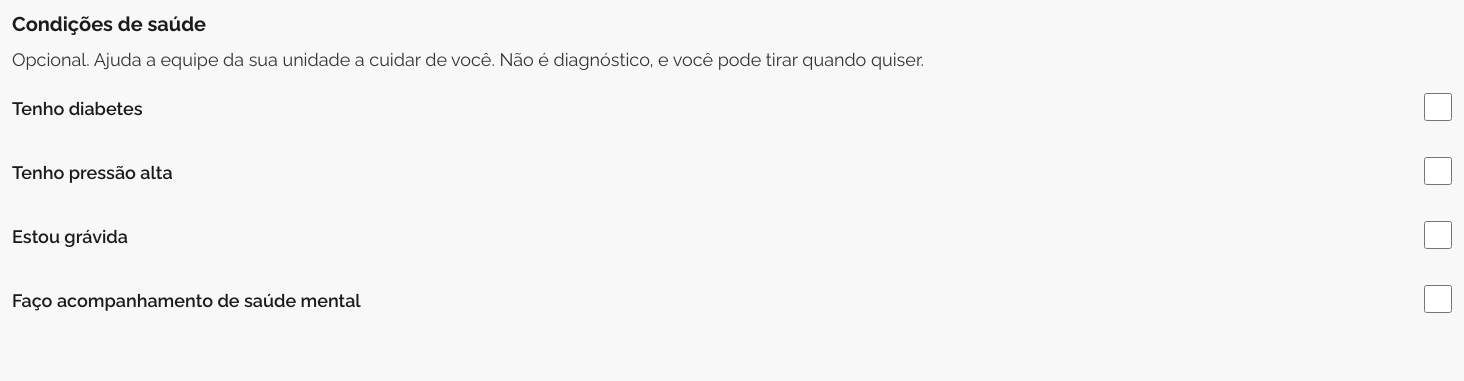
Test: HealthConditions › duas gravações em voo, a primeira responde por último: relê o api e os dois ficam ligados
Click the switch labelled "Tenho diabetes" at (1438, 107), box [1424,93,1452,121]
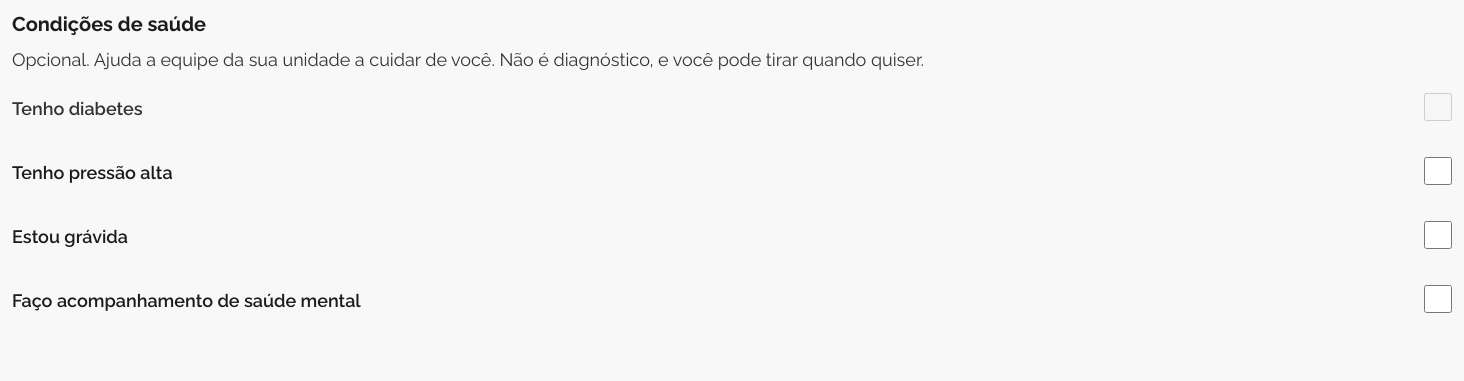
Click the switch labelled "Tenho pressão alta" at (1438, 171), box [1424,157,1452,185]
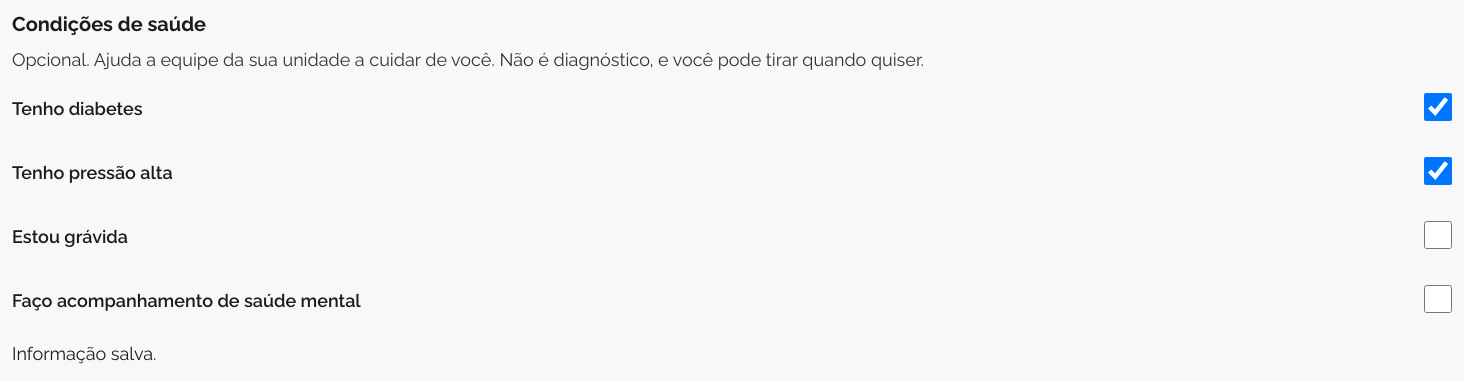
expect the switch labelled "Tenho diabetes" is checked: met, box [1424,93,1452,121]
expect the switch labelled "Tenho pressão alta" is checked: met, box [1424,157,1452,185]
expect the switch labelled "Tenho diabetes" is enabled: met, box [1424,93,1452,121]
